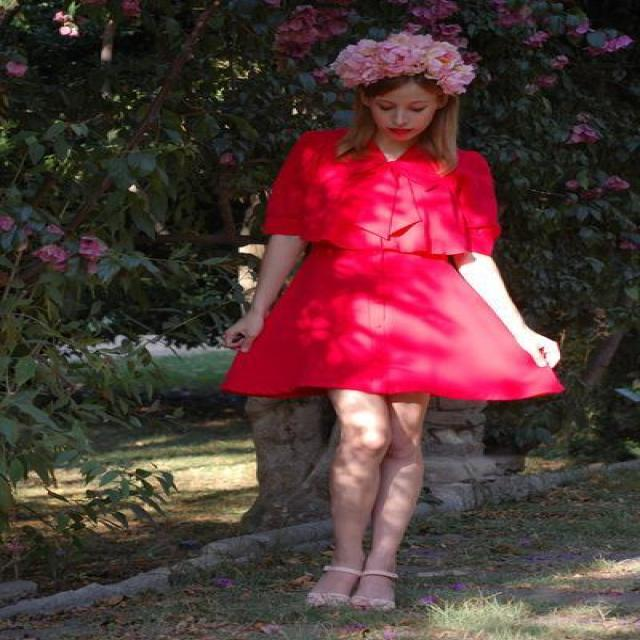dress: (221, 130, 555, 400)
shoe: (306, 551, 396, 610)
